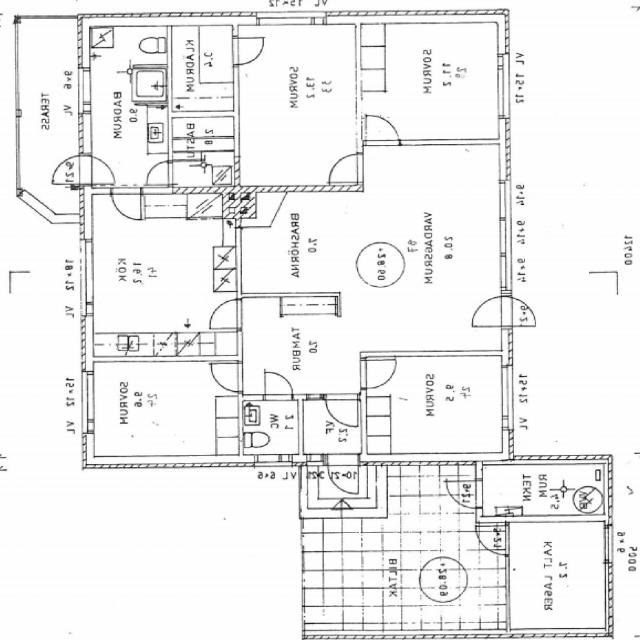door: (466, 296, 513, 326), (499, 296, 545, 326), (328, 454, 359, 494), (78, 156, 120, 184), (49, 156, 90, 184), (204, 298, 242, 328), (472, 525, 510, 555), (366, 110, 399, 144), (327, 395, 358, 428), (447, 480, 483, 508), (112, 186, 141, 220), (237, 38, 272, 66), (362, 360, 396, 388), (328, 154, 362, 182), (208, 364, 242, 391), (266, 370, 293, 400), (141, 161, 173, 185)
